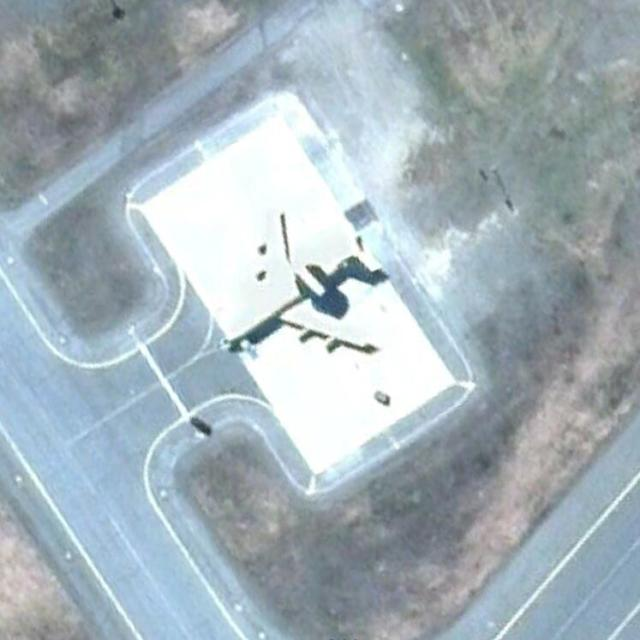fighter jet: (219, 190, 386, 364)
